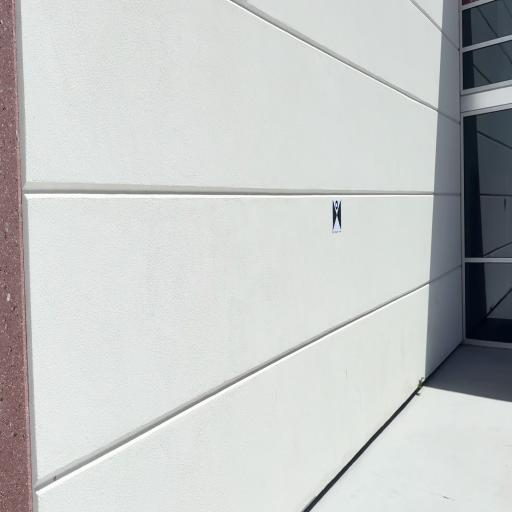target0: (333, 197, 341, 234)
